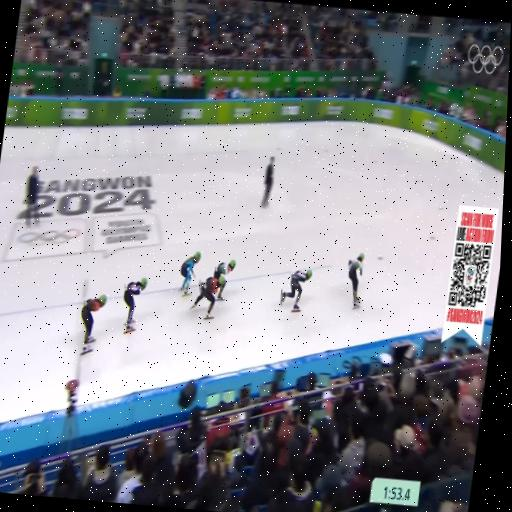Skater: (81, 295, 107, 354), (190, 276, 225, 319), (281, 270, 312, 311), (124, 278, 147, 333), (181, 252, 201, 295), (349, 253, 364, 308), (214, 260, 235, 280)
